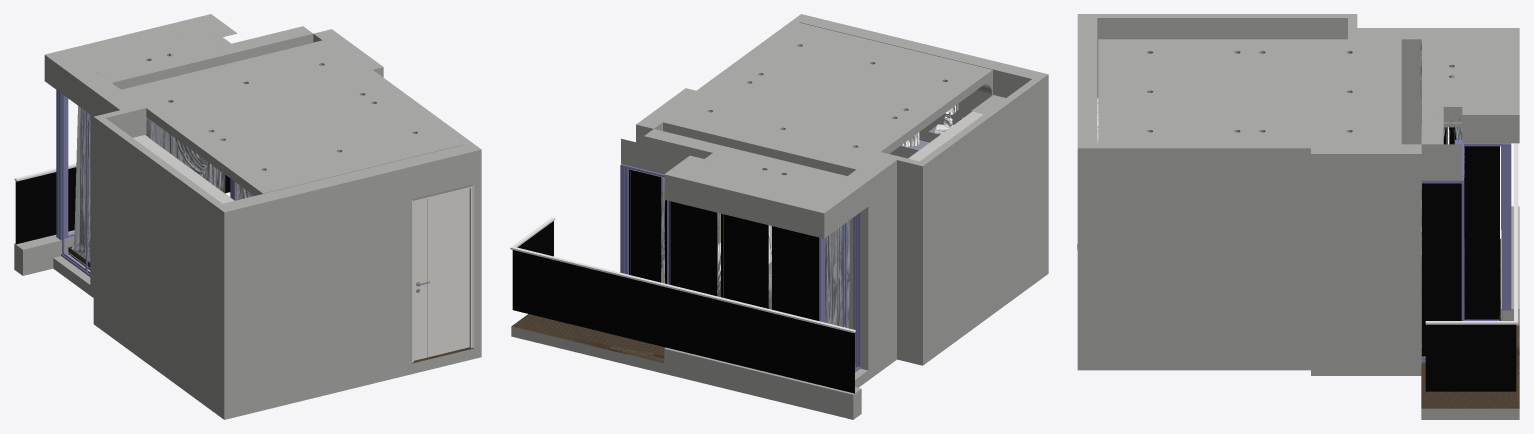
The model's file is bed3.glb.
3 renders of one model, left to right at view 1: azimuth 30°, elevation 25°; view 2: azimuth 150°, elevation 25°; view 3: azimuth 270°, elevation 25°, orthographic. The views are drawn at different scales.
Parts seen in each view (by area): view 1: Group1, Component_6_2, G_3DGeom_1_1, Group11, Group10, Group121; view 2: Group1, Group11, Group10, G_3DGeom_1_1, Group28, Group121; view 3: Group1, Group11, Group10, Group28, G_3DGeom_1_1.
Boxes of the visible parts, x1,y1,x2,y2 form: Group1: [14, 14, 481, 419]; Component_6_2: [412, 184, 474, 362]; G_3DGeom_1_1: [70, 53, 253, 261]; Group11: [15, 167, 230, 244]; Group10: [56, 90, 235, 276]; Group121: [133, 135, 234, 203]; Group1: [511, 14, 1048, 419]; Group11: [512, 169, 854, 393]; Group10: [620, 164, 860, 372]; G_3DGeom_1_1: [657, 176, 849, 327]; Group28: [510, 217, 855, 332]; Group121: [908, 111, 983, 161]; Group1: [1077, 14, 1519, 419]; Group11: [1422, 127, 1516, 391]; Group10: [1421, 139, 1511, 362]; Group28: [1425, 143, 1518, 324]; G_3DGeom_1_1: [1420, 40, 1464, 255].
Bounding box in the file's own units: 5.39 × 2.99 × 5.4.
38 materials, 13 textured.
